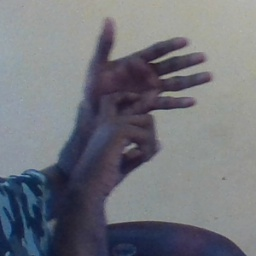R: (67, 18, 214, 175)
